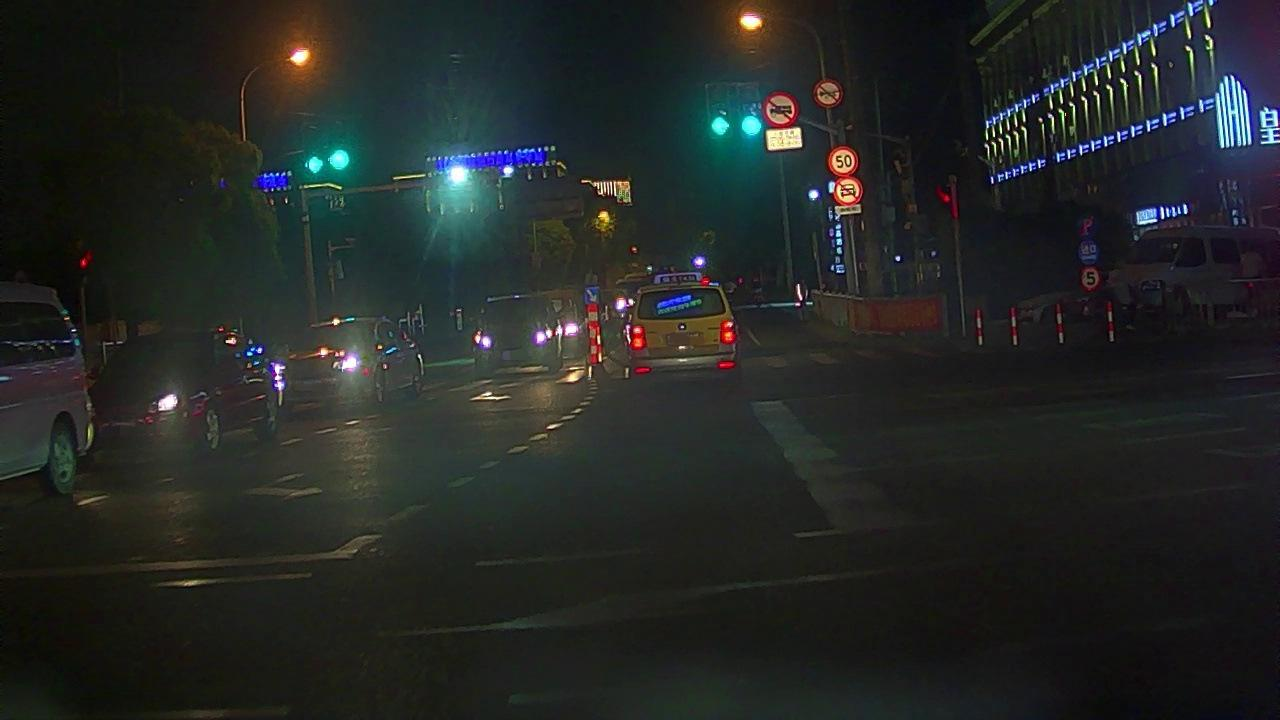traffic_light: (705, 83, 733, 139), (737, 82, 763, 141), (326, 145, 353, 174), (302, 149, 326, 179)
